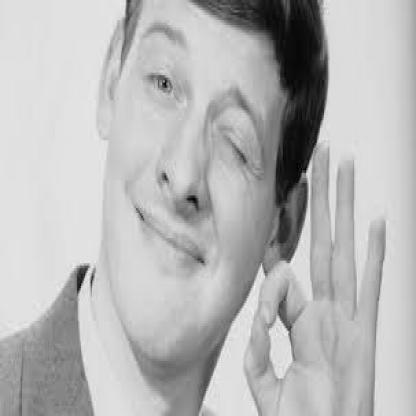ok: (241, 134, 388, 415)
